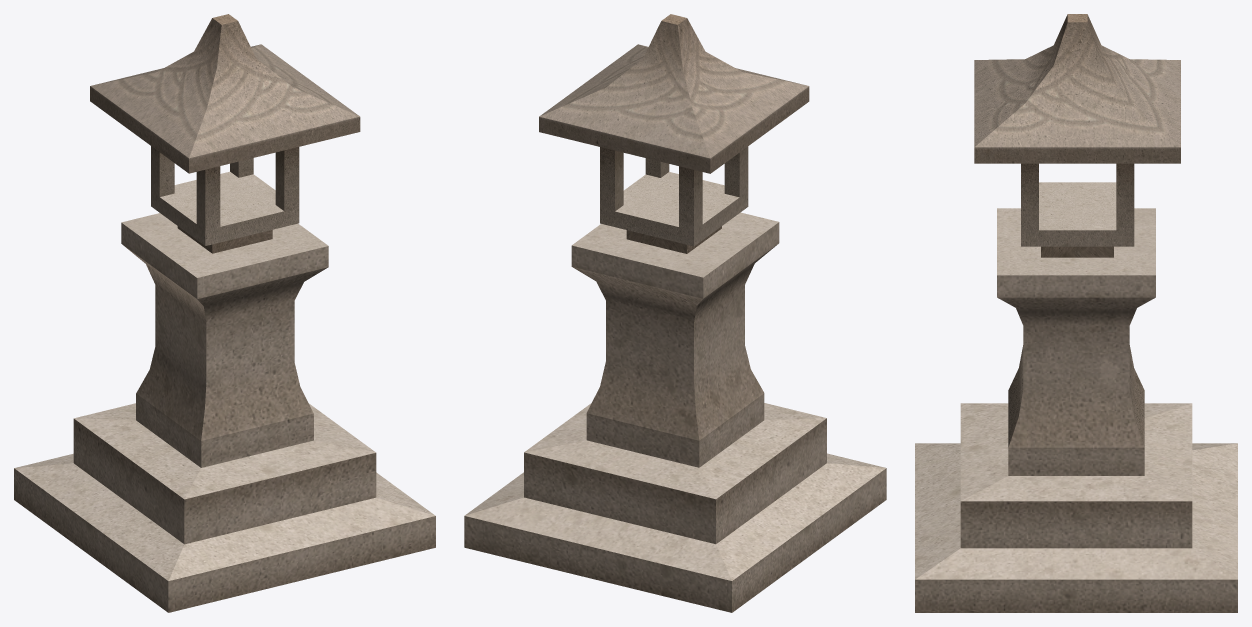
File: shrine1.fbx
3 renders of one model, left to right at view 1: azimuth 30°, elevation 25°; view 2: azimuth 150°, elevation 25°; view 3: azimuth 270°, elevation 25°, orthographic. The views are drawn at different scales.
Visible parts, largest first — view 1: shrine1; view 2: shrine1; view 3: shrine1.
Part boxes in pixels (box(x1,y1,x2,y2)): shrine1: box(14, 14, 435, 612); shrine1: box(464, 14, 886, 612); shrine1: box(915, 14, 1237, 612).
Bounding box in the file's own units: 4.81 × 8.65 × 4.81.
Materials: 1 (1 with a texture image).
